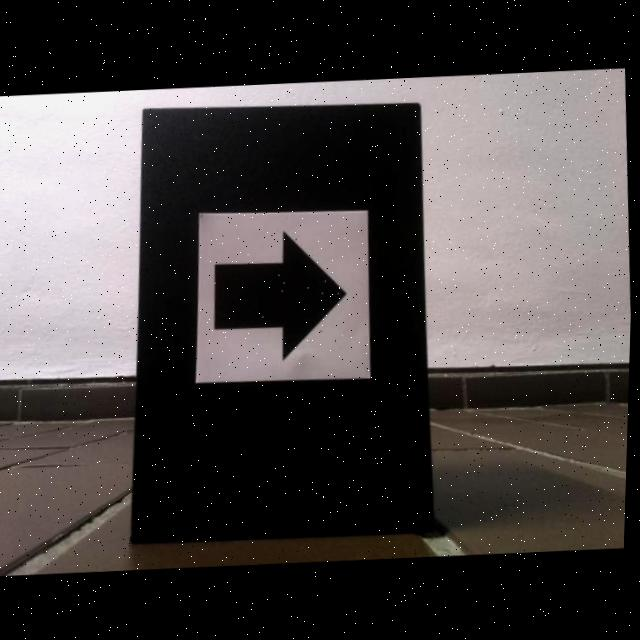RIGHT: (216, 230, 349, 361)
